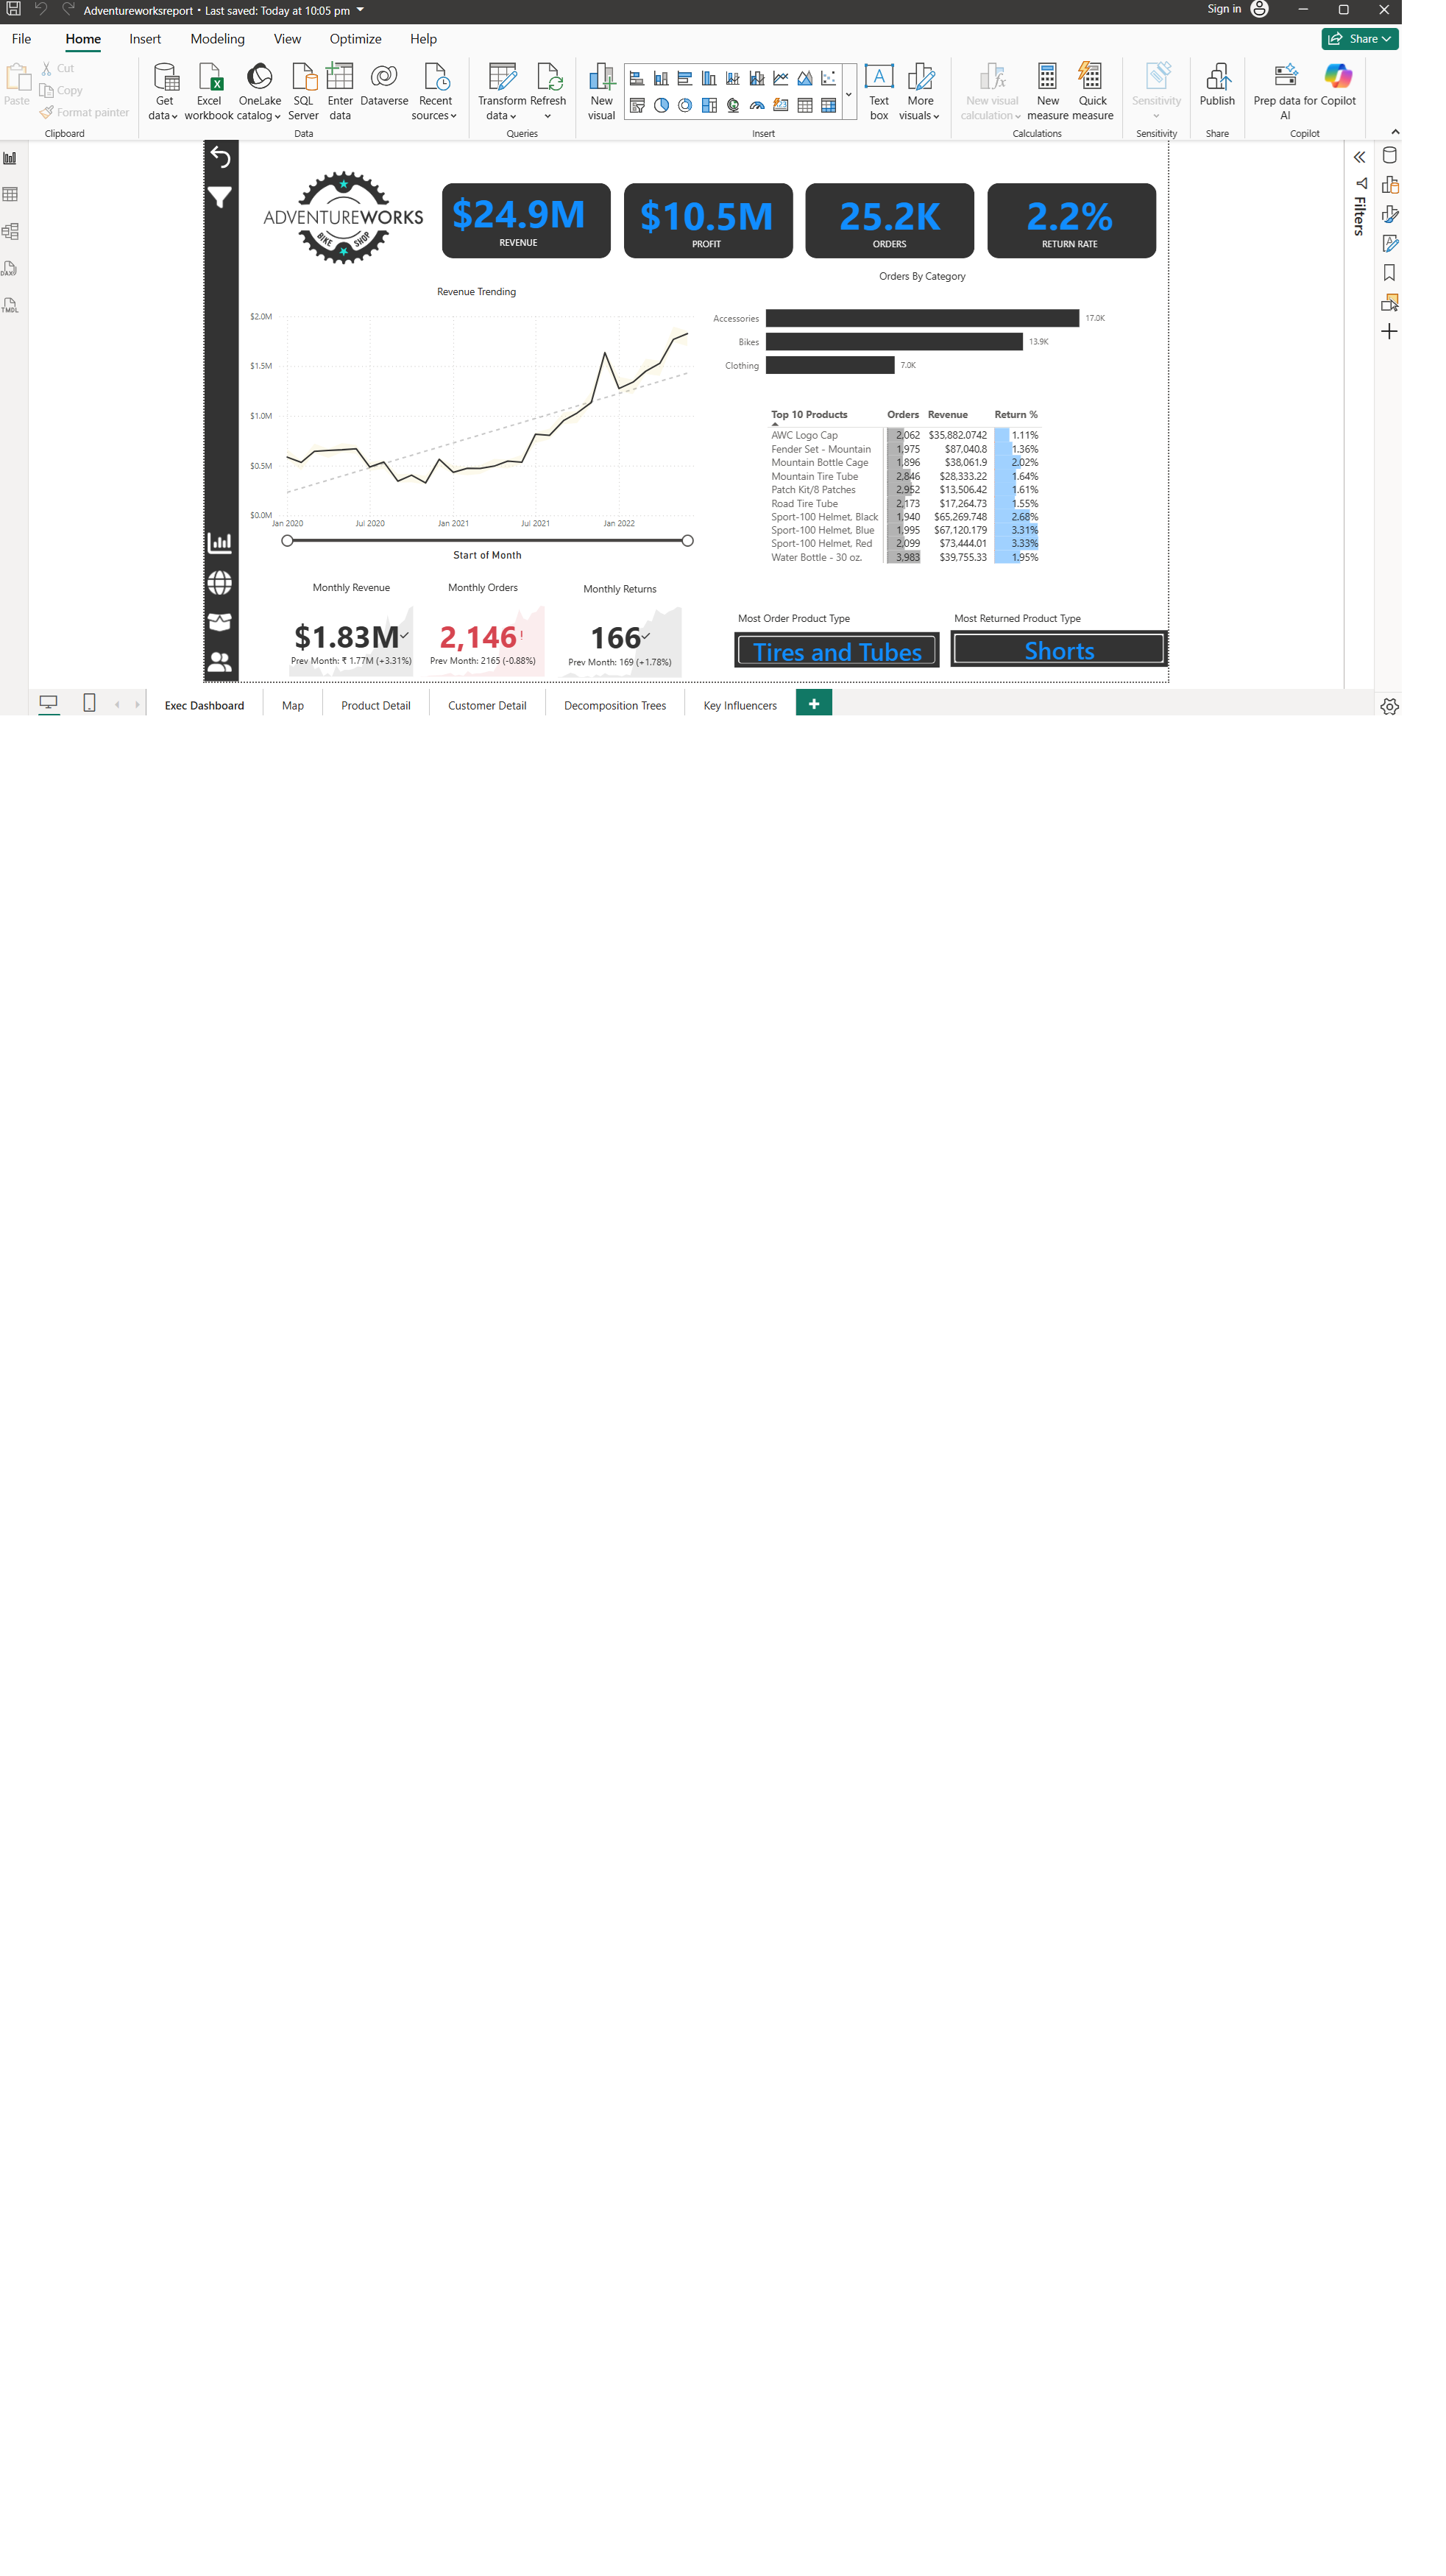

The dashboard page shown, as its layout file describes it:
{"tool":"powerbi","page":{"name":"Exec Dashboard","canvas":[1280,720],"ordinal":0},"visuals":[{"type":"shape","title":"Left Nav Background","box":[0,0,45.5,719.6],"z":0},{"type":"actionButton","box":[0,516.5,42.8,40.4],"z":0,"group":"g4"},{"type":"image","title":"AW Logo","box":[54.8,18.8,259.7,170.2],"z":1000},{"type":"shape","box":[1041.3,57.6,225,100],"z":1000,"group":"g2"},{"type":"actionButton","box":[0,569.1,42.8,40.4],"z":1000,"group":"g4"},{"type":"group","id":"g1","title":"KPIs","box":[296,2.2,970.3,202],"z":2000},{"type":"shape","box":[799.6,57.6,225,100],"z":2000,"group":"g2"},{"type":"actionButton","box":[0,621.7,42.8,40.4],"z":2000,"group":"g4"},{"type":"shape","box":[316,57.6,225,100],"z":2500,"group":"g2"},{"type":"shape","box":[557.8,57.6,225,100],"z":3000,"group":"g2"},{"type":"lineChart","title":"Revenue Trending","fields":{"Category":["Calendar Lookup.Date Hierarchy.Start of Month"],"Y":["Measure Table.Total Revnue"]},"box":[54.8,191.9,613.2,372.2],"z":3000},{"type":"actionButton","box":[0,674.2,42.8,40.4],"z":3000,"group":"g4"},{"type":"card","fields":{"Values":["Measure Table.Total Profit"]},"box":[555.1,56.5,224.7,99.6],"z":4000,"group":"g3"},{"type":"kpi","title":"Monthly Revenue","fields":{"Goal":["Measure Table.Previous Month Revenue"],"Indicator":["Measure Table.Total Revenue"],"TrendLine":["Calendar Lookup.Date Hierarchy.Start of Month"]},"box":[107.6,585.7,175,133],"z":4000},{"type":"kpi","title":"Monthly Returns","fields":{"Goal":["Measure Table.Previous Month Returns"],"Indicator":["Measure Table.Total Returns"],"TrendLine":["Calendar Lookup.Date Hierarchy.Start of Month"]},"box":[464.7,587,175,133],"z":5000},{"type":"card","fields":{"Values":["Measure Table.Retutn rate"]},"box":[1038.7,56.5,224.7,99.6],"z":6000,"group":"g3"},{"type":"kpi","title":"Monthly Orders","fields":{"Goal":["Measure Table.Previous Month orders"],"Indicator":["Measure Table.Total Orders"],"TrendLine":["Calendar Lookup.Date Hierarchy.Start of Month"]},"box":[282.5,585.7,175,133],"z":6000},{"type":"clusteredBarChart","title":"Orders By Category","fields":{"Category":["Product Categories Lookup.CategoryName"],"Y":["Measure Table.Total Orders"]},"box":[666.6,171.7,575.7,158.7],"z":7000},{"type":"card","fields":{"Values":["Measure Table.Total Orders"]},"box":[796.9,56.5,227.6,99.6],"z":8000,"group":"g3"},{"type":"pivotTable","fields":{"Rows":["Product Lookup.ProductName"],"Values":["Measure Table.Total Orders","Measure Table.Total Revenue","Measure Table.Retutn rate"]},"box":[743,350.6,432.8,235.2],"z":8000},{"type":"card","fields":{"Values":["Measure Table.Total Revnue"]},"box":[296,2.2,243.2,202],"z":9000,"group":"g3"},{"type":"cardVisual","fields":{"Data":["Min(Product Subcategories Lookup.SubcategoryName)"]},"box":[704.5,653.8,272.7,47.2],"z":9000},{"type":"group","id":"g2","title":"KPI Backgrounds","box":[316,57.6,950.3,100],"z":9002,"group":"g1"},{"type":"group","id":"g3","title":"KPI Values","box":[296,2.2,968.1,202],"z":9502,"group":"g1"},{"type":"textbox","box":[704.5,620.6,236,33.2],"z":10000},{"type":"cardVisual","fields":{"Data":["Min(Product Subcategories Lookup.SubcategoryName)"]},"box":[991.2,652.1,288.5,48.9],"z":11000},{"type":"textbox","box":[991.2,620.6,204.5,31.5],"z":12000},{"type":"actionButton","box":[1.4,2.9,45.1,39.9],"z":13000},{"type":"group","id":"g4","title":"Navigation Buttons","box":[0,516.5,43.3,197.7],"z":14000},{"type":"actionButton","box":[0,56.3,46.2,40.4],"z":15000}]}

Visuals, with their boxes on the page's 1280x720 design canvas (x1, y1, x2, y2). These are canvas units, not pixel positions in the 1446x2576 screenshot, which may show the page scaled, cropped or inside an application window:
"Left Nav Background" shape: {"left": 0, "top": 0, "right": 46, "bottom": 720}
actionButton: {"left": 0, "top": 516, "right": 43, "bottom": 557}
"AW Logo" image: {"left": 55, "top": 19, "right": 314, "bottom": 189}
shape: {"left": 1041, "top": 58, "right": 1266, "bottom": 158}
actionButton: {"left": 0, "top": 569, "right": 43, "bottom": 610}
"KPIs" group: {"left": 296, "top": 2, "right": 1266, "bottom": 204}
shape: {"left": 800, "top": 58, "right": 1025, "bottom": 158}
actionButton: {"left": 0, "top": 622, "right": 43, "bottom": 662}
shape: {"left": 316, "top": 58, "right": 541, "bottom": 158}
shape: {"left": 558, "top": 58, "right": 783, "bottom": 158}
"Revenue Trending" lineChart: {"left": 55, "top": 192, "right": 668, "bottom": 564}
actionButton: {"left": 0, "top": 674, "right": 43, "bottom": 715}
card - Measure Table.Total Profit: {"left": 555, "top": 56, "right": 780, "bottom": 156}
"Monthly Revenue" kpi: {"left": 108, "top": 586, "right": 283, "bottom": 719}
"Monthly Returns" kpi: {"left": 465, "top": 587, "right": 640, "bottom": 720}
card - Measure Table.Retutn rate: {"left": 1039, "top": 56, "right": 1263, "bottom": 156}
"Monthly Orders" kpi: {"left": 282, "top": 586, "right": 458, "bottom": 719}
"Orders By Category" clusteredBarChart: {"left": 667, "top": 172, "right": 1242, "bottom": 330}
card - Measure Table.Total Orders: {"left": 797, "top": 56, "right": 1024, "bottom": 156}
pivotTable - Product Lookup.ProductName x Measure Table.Total Orders: {"left": 743, "top": 351, "right": 1176, "bottom": 586}
card - Measure Table.Total Revnue: {"left": 296, "top": 2, "right": 539, "bottom": 204}
cardVisual - Min(Product Subcategories Lookup.SubcategoryName): {"left": 704, "top": 654, "right": 977, "bottom": 701}
"KPI Backgrounds" group: {"left": 316, "top": 58, "right": 1266, "bottom": 158}
"KPI Values" group: {"left": 296, "top": 2, "right": 1264, "bottom": 204}
textbox: {"left": 704, "top": 621, "right": 940, "bottom": 654}
cardVisual - Min(Product Subcategories Lookup.SubcategoryName): {"left": 991, "top": 652, "right": 1280, "bottom": 701}
textbox: {"left": 991, "top": 621, "right": 1196, "bottom": 652}
actionButton: {"left": 1, "top": 3, "right": 46, "bottom": 43}
"Navigation Buttons" group: {"left": 0, "top": 516, "right": 43, "bottom": 714}
actionButton: {"left": 0, "top": 56, "right": 46, "bottom": 97}
